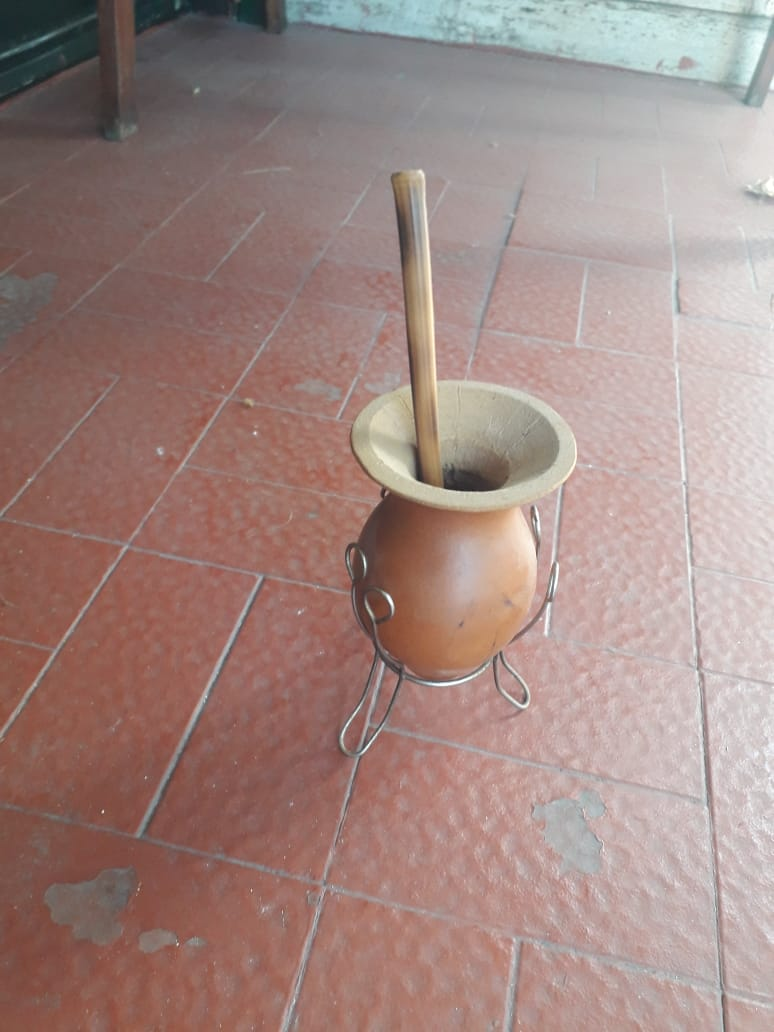calabaza: (335, 164, 583, 759)
mate: (337, 166, 585, 761)
